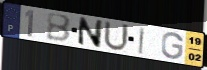1: (24, 9, 35, 38)
B: (46, 12, 73, 44)
G: (160, 32, 185, 61)
I: (137, 27, 147, 56)
N: (77, 16, 105, 50)
U: (102, 20, 131, 53)
